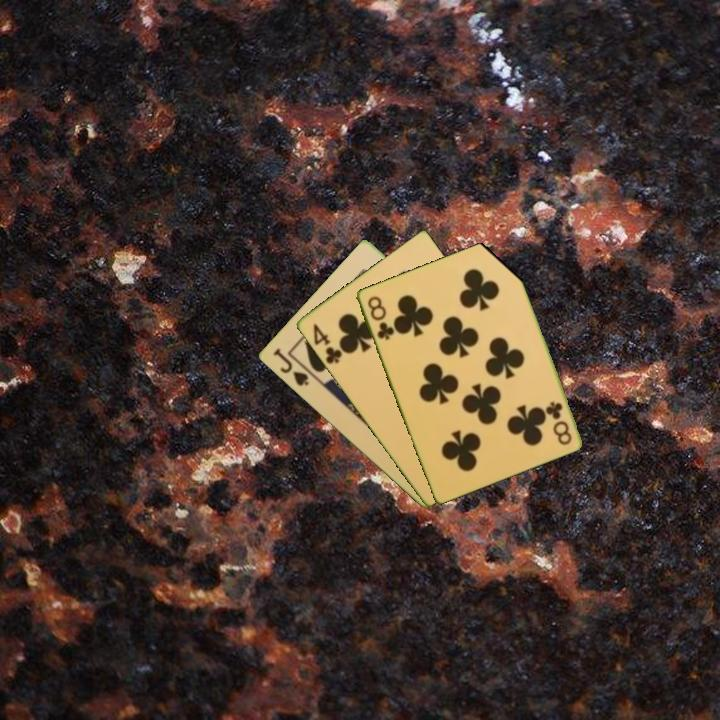4c: (309, 320, 345, 367)
8c: (363, 292, 396, 343), (543, 398, 574, 448)
Js: (269, 344, 312, 389)
